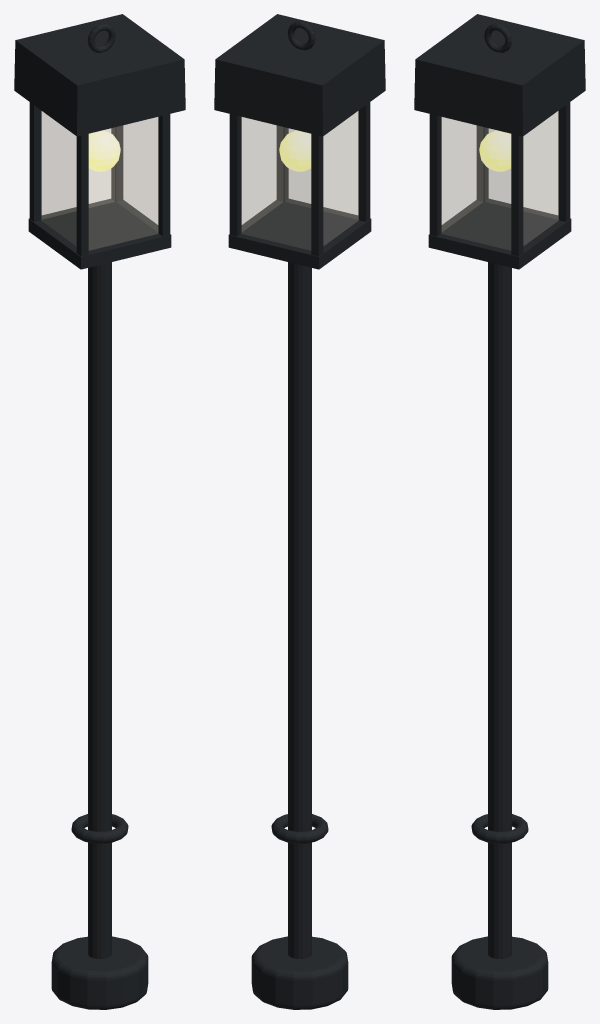
File: lantern.glb
3 renders of one model, left to right at view 1: azimuth 30°, elevation 25°; view 2: azimuth 150°, elevation 25°; view 3: azimuth 330°, elevation 25°, orthographic.
Parts seen in each view (by area): view 1: pole, roof, glass, cage_base, base, cage_post1, cage_post0, cage_post2, bulb, collar, cage_post3, hook; view 2: pole, roof, glass, cage_base, base, cage_post3, cage_post2, cage_post0, bulb, collar, cage_post1, hook; view 3: pole, roof, glass, cage_base, base, cage_post0, cage_post1, cage_post3, bulb, collar, cage_post2, hook.
Part boxes in pixels (box(x1,y1,x2,y2)): pole: box(88, 262, 111, 958); roof: box(14, 14, 185, 136); glass: box(41, 111, 158, 250); cage_base: box(28, 198, 171, 269); base: box(51, 936, 148, 1009); cage_post1: box(158, 114, 170, 236); cage_post0: box(76, 134, 88, 256); cage_post2: box(29, 102, 41, 221); bulb: box(88, 130, 120, 171); collar: box(71, 814, 128, 843); cage_post3: box(111, 125, 123, 201); hook: box(87, 23, 115, 52); pole: box(288, 262, 311, 958); roof: box(214, 14, 385, 136); glass: box(241, 111, 358, 250); cage_base: box(228, 198, 371, 269); base: box(251, 936, 348, 1009); cage_post3: box(229, 114, 241, 236); cage_post2: box(311, 134, 323, 256); cage_post0: box(358, 102, 370, 221); bulb: box(279, 130, 311, 171); collar: box(271, 814, 328, 843); cage_post1: box(276, 125, 288, 201); hook: box(287, 21, 315, 50); pole: box(488, 262, 511, 958); roof: box(414, 14, 585, 136); glass: box(441, 111, 558, 250); cage_base: box(428, 198, 571, 269); base: box(451, 936, 548, 1009); cage_post0: box(429, 114, 441, 236); cage_post1: box(511, 134, 523, 256); cage_post3: box(558, 102, 570, 221); bulb: box(479, 130, 511, 171); collar: box(471, 814, 528, 843); cage_post2: box(476, 125, 488, 201); hook: box(484, 23, 512, 52).
Size of the model in its own units: 0.36 by 3.06 by 0.36.
